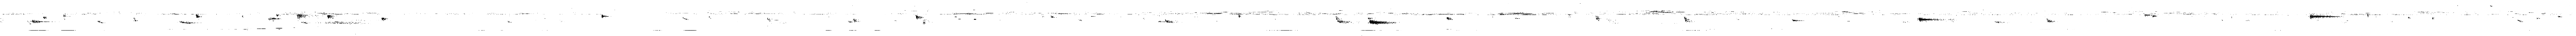meteor: (1367, 16, 1396, 25), (2310, 15, 2341, 20), (1336, 16, 1352, 23), (1919, 18, 1945, 21), (179, 20, 194, 25), (31, 20, 51, 23), (1684, 16, 1694, 23), (1791, 18, 1805, 21), (915, 15, 923, 20), (2047, 18, 2055, 23), (195, 13, 202, 18), (601, 15, 609, 18)
